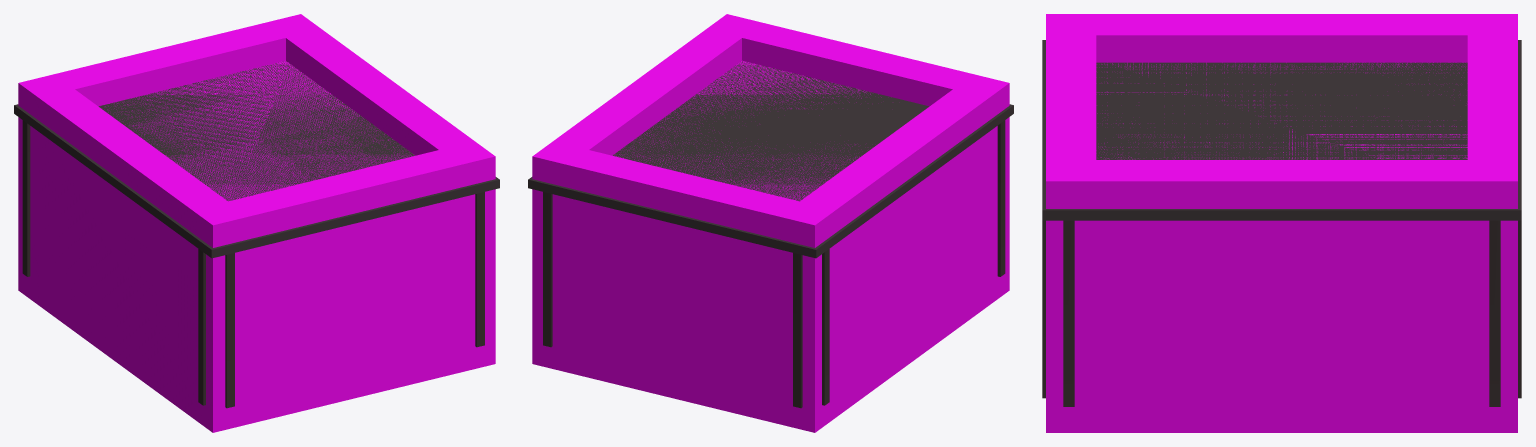
The model's file is interior-shed.glb.
The picture shows the model from 3 angles, left to right: view 1: azimuth 30°, elevation 25°; view 2: azimuth 150°, elevation 25°; view 3: azimuth 270°, elevation 25°; orthographic projection. The views are drawn at different scales.
Visible parts, largest first — view 1: Col_wall_front, Col_wall_left, Interior shed Plaster, Col_ceiling, Col_wall_back, Col_wall_right; view 2: Col_wall_back, Col_wall_left, Interior shed Plaster, Col_ceiling, Col_wall_front, Col_wall_right; view 3: Col_wall_right, Interior shed Plaster, Col_ceiling, Col_wall_left, Col_wall_front, Col_wall_back.
Boxes of the visible parts, x1,y1,x2,y2 form: Col_wall_front: (192,141,495,432); Col_wall_left: (18,81,248,432); Interior shed Plaster: (14,61,499,408); Col_ceiling: (18,60,495,293); Col_wall_back: (18,14,320,305); Col_wall_right: (267,15,495,371); Col_wall_back: (532,141,835,432); Col_wall_left: (779,83,1009,432); Interior shed Plaster: (528,61,1013,408); Col_ceiling: (532,60,1009,292); Col_wall_front: (706,14,1009,296); Col_wall_right: (532,14,760,367); Col_wall_right: (1046,160,1517,432); Interior shed Plaster: (1042,40,1521,406); Col_ceiling: (1046,62,1517,263); Col_wall_left: (1046,14,1517,62); Col_wall_front: (1046,14,1096,432); Col_wall_back: (1467,14,1517,432).
Bounding box in the file's own units: 10.6 × 7.3 × 12.6.
